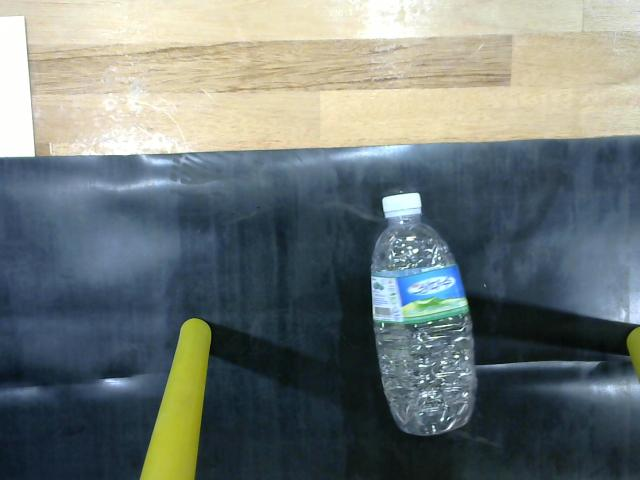bottle: (361, 188, 479, 443)
